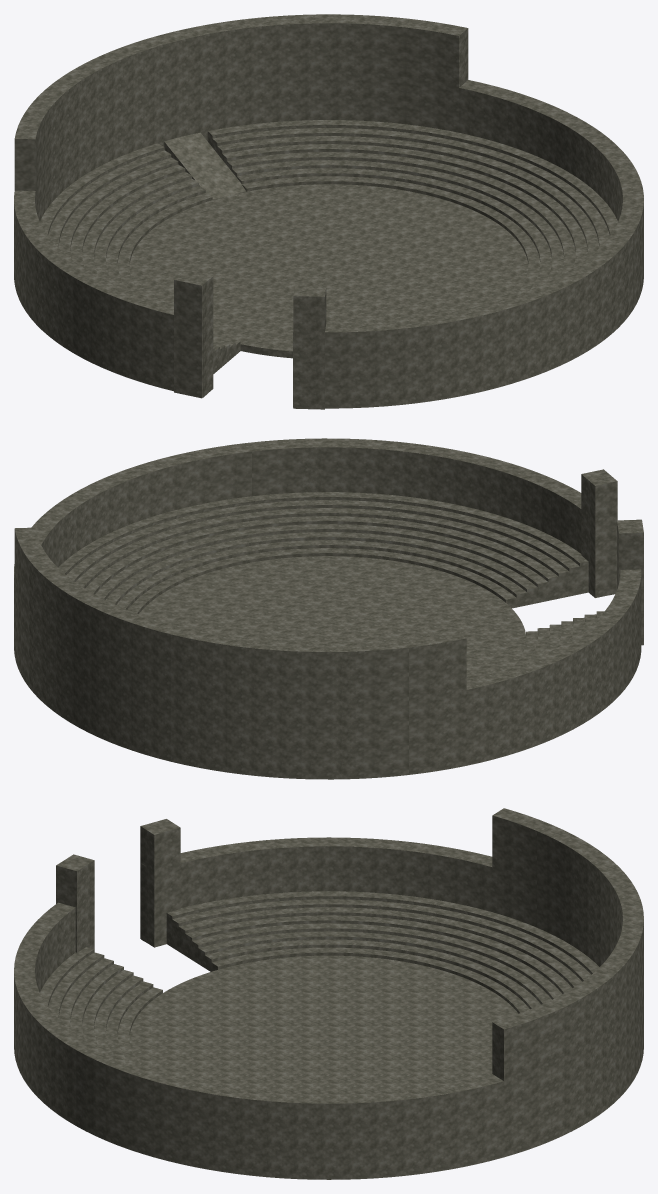
File: veyra_plaza_arena.dae
3 views of the same model, one above another, from view 1: azimuth 30°, elevation 25°; view 2: azimuth 150°, elevation 25°; view 3: azimuth 270°, elevation 25° (orthographic).
Visible parts, largest first — view 1: own-solid-node; view 2: own-solid-node; view 3: own-solid-node.
Part boxes in pixels (x1,y1,x2,y2): own-solid-node: (14,14,643,409); own-solid-node: (14,438,643,779); own-solid-node: (14,808,643,1179).
Size of the model in its own units: 6000 by 6000 by 1344.
